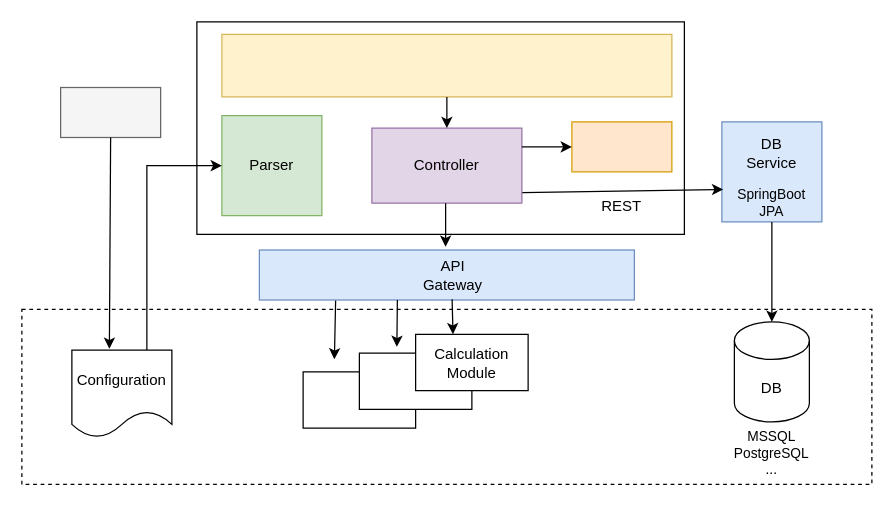
This 894x506 diagram has some shape labels left out. Here are the shapes that lost their labels. From the top down, the centre of each, then its label:
point (446, 65): Graphical User Interface
point (110, 112): Intens-Gen
point (621, 146): Datapool
